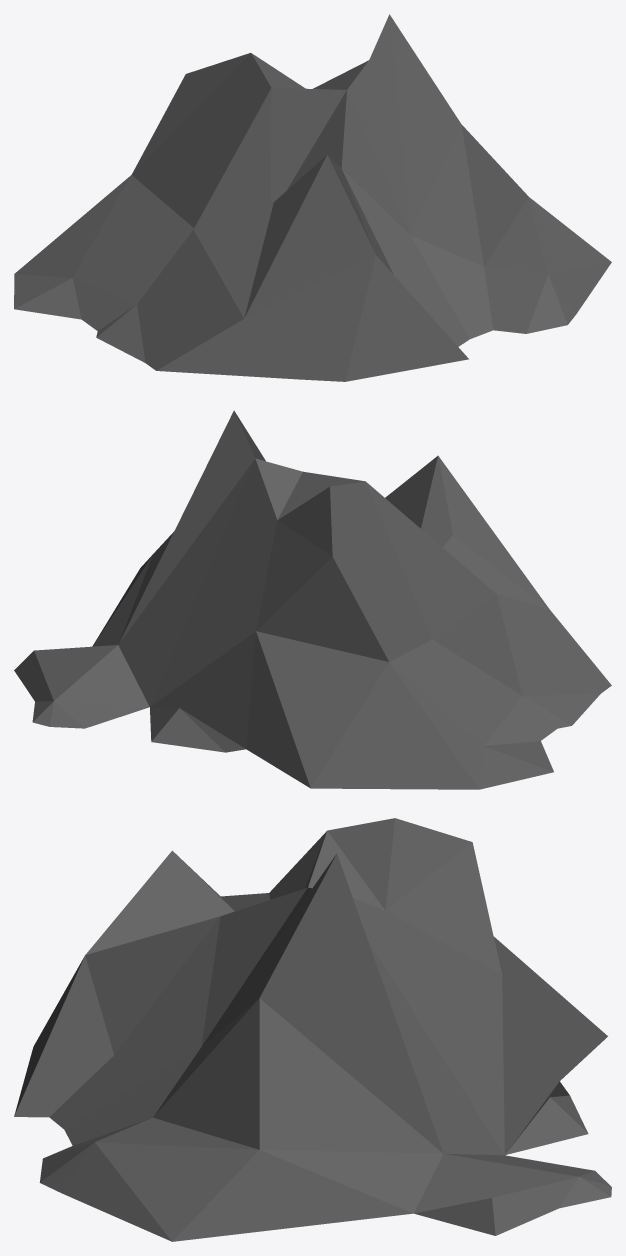
The model's file is Mountain02.fbx.
The picture shows the model from 3 angles, top to bottom: view 1: azimuth 30°, elevation 25°; view 2: azimuth 150°, elevation 25°; view 3: azimuth 270°, elevation 25°; orthographic projection. The views are drawn at different scales.
Parts seen in each view (by area): view 1: Mountain02; view 2: Mountain02; view 3: Mountain02.
Boxes of the visible parts, box(x1,y1,x2,y2) form: Mountain02: box(14, 14, 611, 381); Mountain02: box(14, 410, 611, 789); Mountain02: box(14, 818, 611, 1241).
Bounding box in the file's own units: 1717 × 785 × 1445.
Materials: 1 (1 with a texture image).
